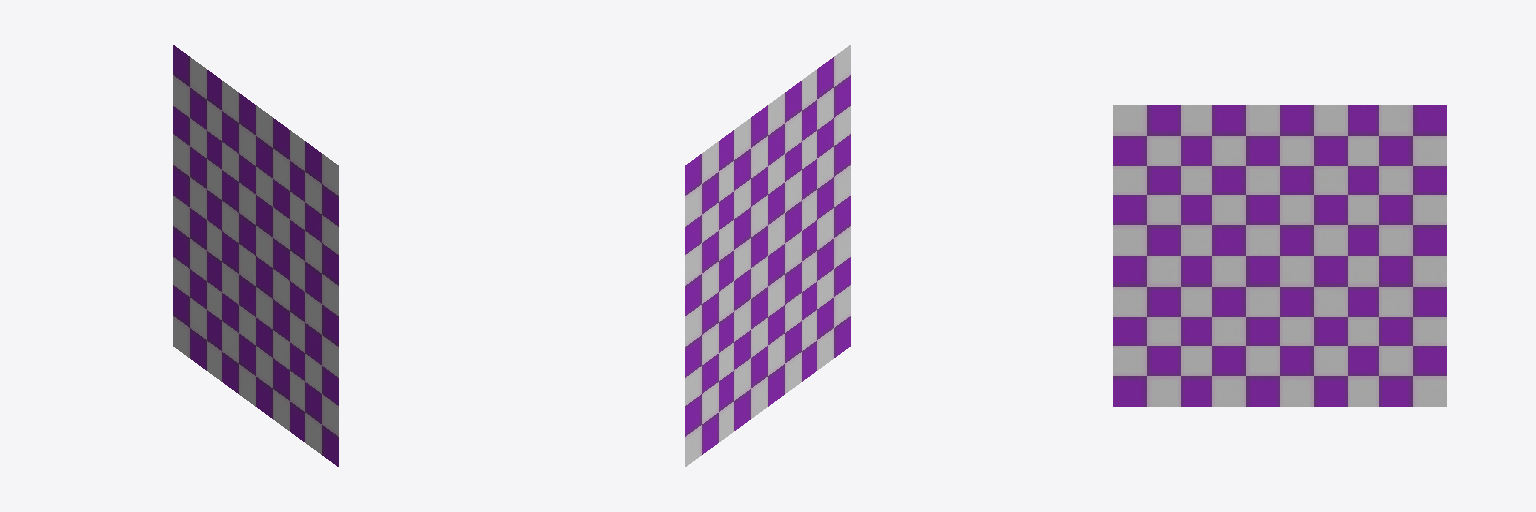
3 renders of one model, left to right at view 1: azimuth 30°, elevation 25°; view 2: azimuth 150°, elevation 25°; view 3: azimuth 270°, elevation 25°, orthographic.
Visible parts, largest first — view 1: Cube.001; view 2: Cube.001; view 3: Cube.001.
Part boxes in pixels (bbox=[...]): Cube.001: bbox=[173, 45, 338, 466]; Cube.001: bbox=[685, 45, 850, 466]; Cube.001: bbox=[1113, 105, 1446, 406].
Size of the model in its own units: 0 by 1 by 1.
Materials: 1 (1 with a texture image).